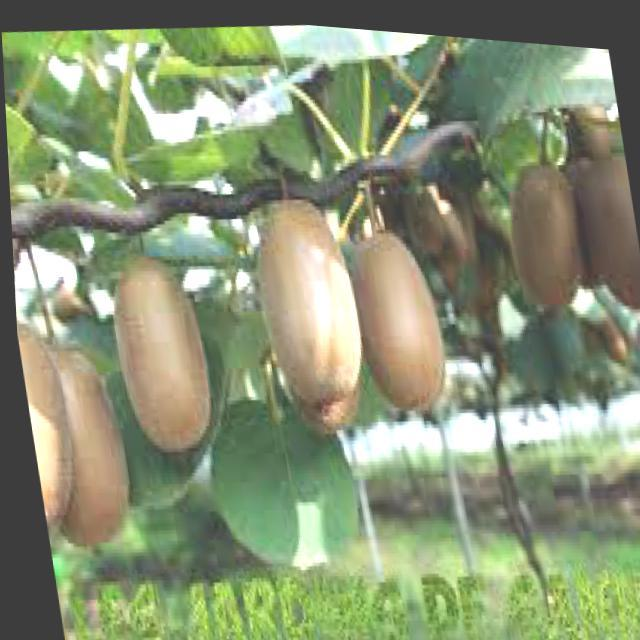kiwi: (243, 178, 364, 409), (22, 334, 132, 549), (99, 245, 212, 454), (342, 214, 449, 411), (14, 314, 78, 530), (500, 148, 583, 304), (571, 139, 640, 304)
